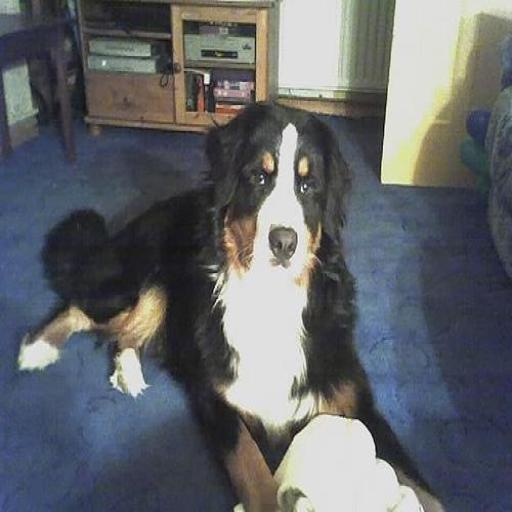dog_face: (209, 104, 338, 274)
